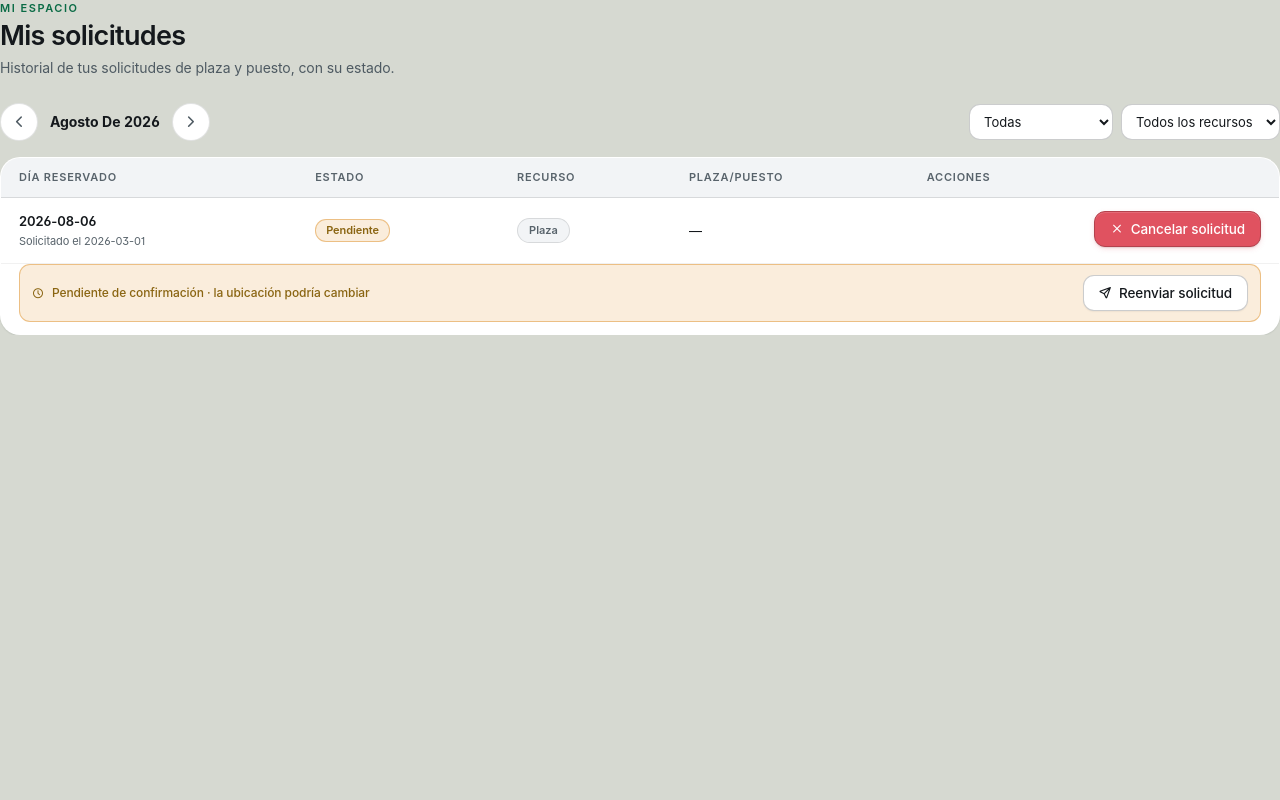
MyRequestsPage (EMPLOYEE) › should_close_cancel_modal_without_cancelling
Click the button "Cancelar solicitud" at (1178, 229), box [1094,211,1261,247]
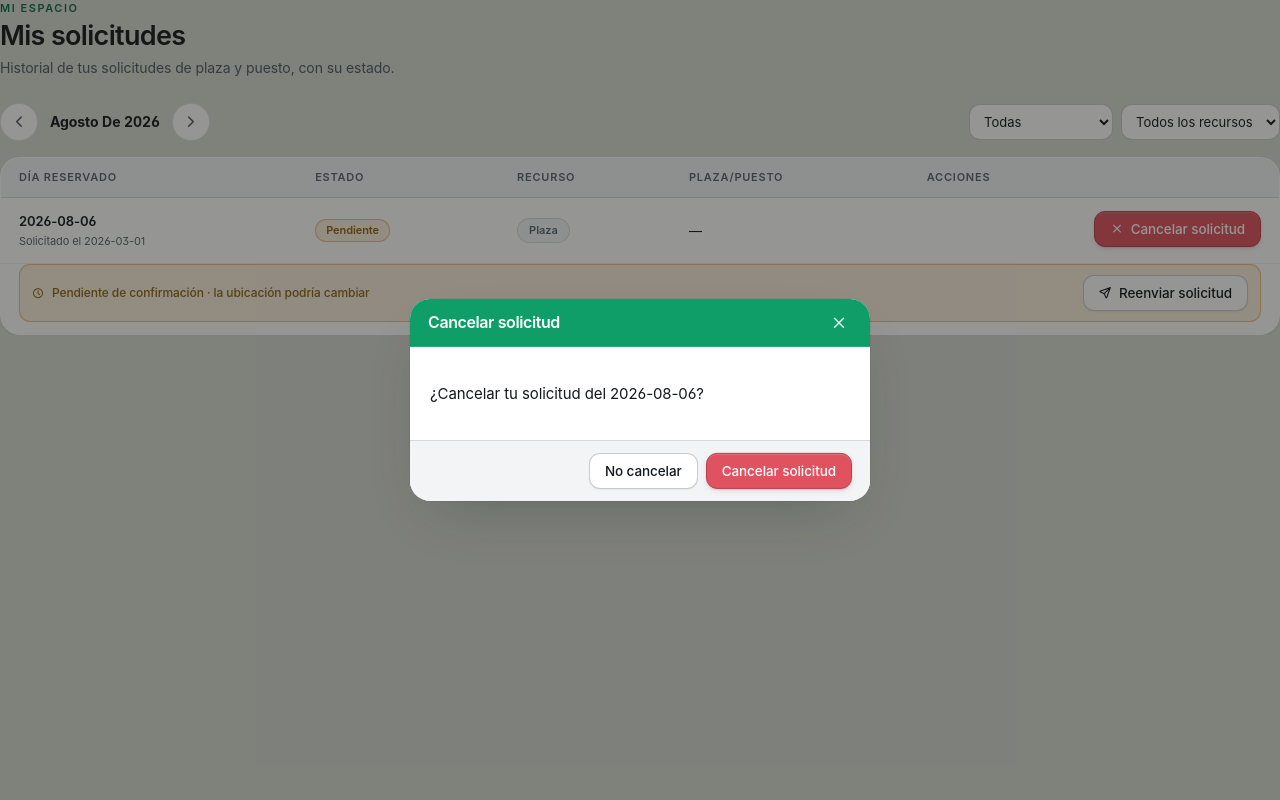
El botón blanco de "volver" invoca onClose y descarta el objetivo de cancelación.
Click the button named "Cerrar" at (839, 323), box [826,310,852,336]
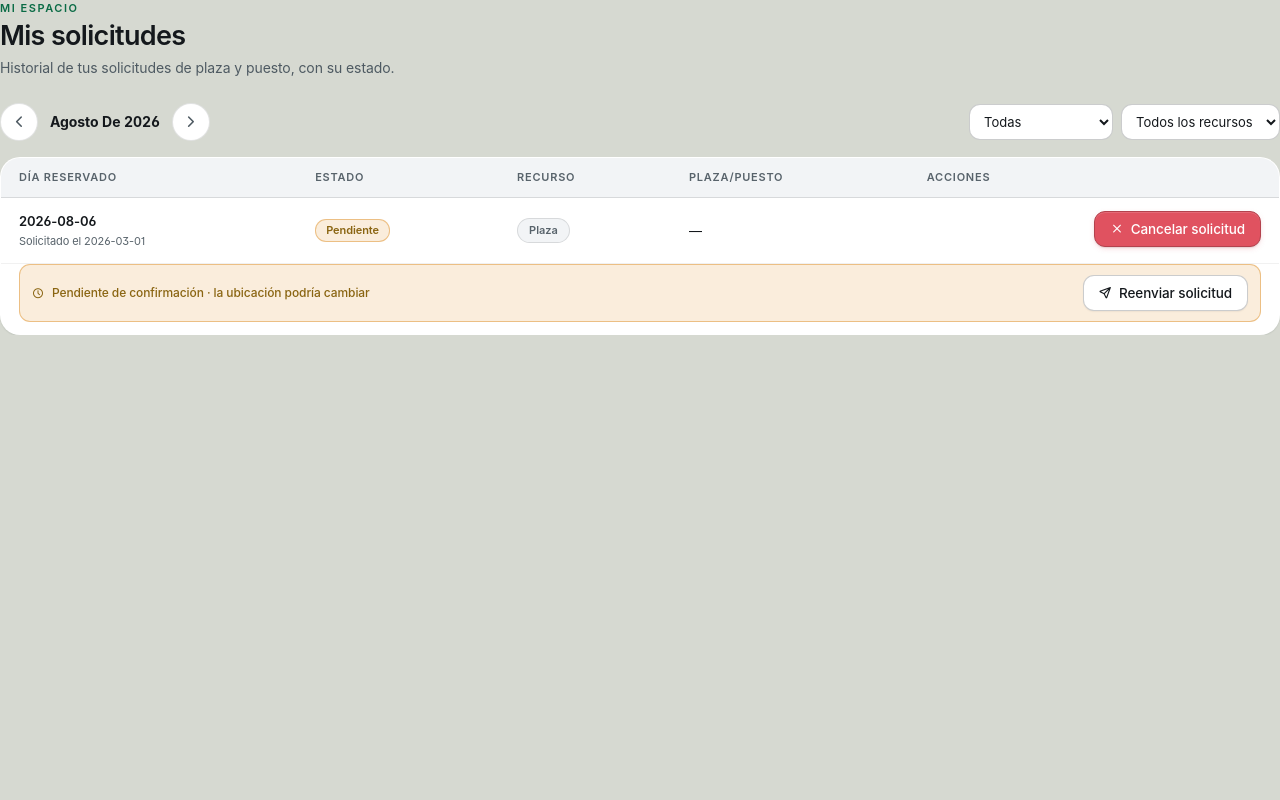
Expected: the dialog is gone
